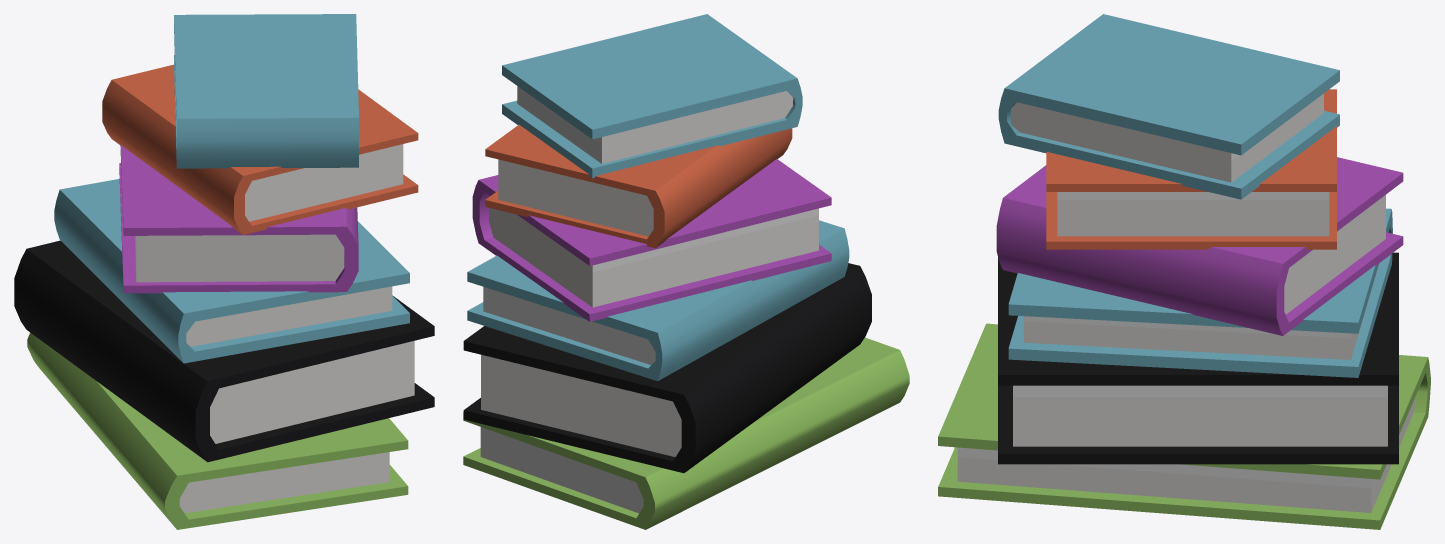
Rendered from 04bookstack_nieuwestijl.fbx.
The picture shows the model from 3 angles, left to right: view 1: azimuth 30°, elevation 25°; view 2: azimuth 150°, elevation 25°; view 3: azimuth 270°, elevation 25°; orthographic projection. The views are drawn at different scales.
Visible parts, largest first — view 1: pCube400; view 2: pCube400; view 3: pCube400.
Part boxes in pixels (bbox=[...]): pCube400: bbox=[14, 14, 434, 529]; pCube400: bbox=[463, 14, 909, 529]; pCube400: bbox=[938, 14, 1430, 529].
Bounding box in the file's own units: 0.5645 × 0.6069 × 0.6813.
